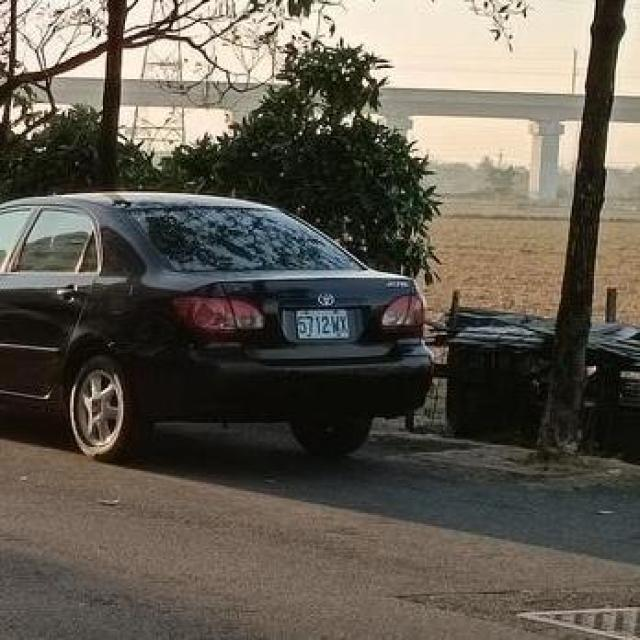W: (291, 304, 353, 342)
